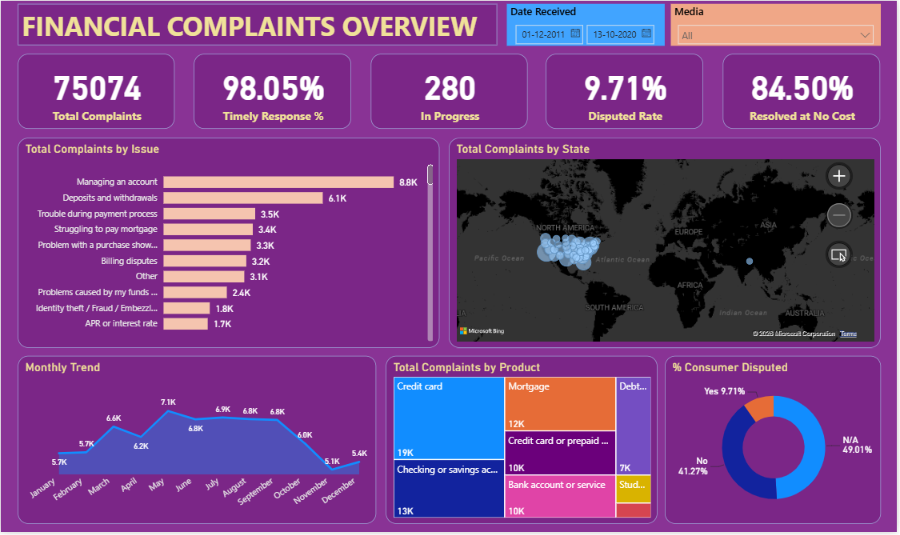

Layout of this report page (visuals, bound fields, positions):
{"tool":"powerbi","page":{"name":"Page 1","canvas":[1280,758],"ordinal":0},"visuals":[{"type":"card","fields":{"Values":["Financial Consumer Complaints_Financial Consumer Complaints.Total Complaints"]},"box":[23.8,75.2,223.9,107],"z":0},{"type":"textbox","box":[23.8,3.6,684.8,59.5],"z":1000},{"type":"card","fields":{"Values":["Financial Consumer Complaints_Financial Consumer Complaints.Tomely Response %"]},"box":[275.5,75.2,225.1,107],"z":2000},{"type":"card","fields":{"Values":["Financial Consumer Complaints_Financial Consumer Complaints.In Progress Complaints"]},"box":[527.9,75.2,223.9,107],"z":3000},{"type":"card","fields":{"Values":["Financial Consumer Complaints_Financial Consumer Complaints.Consumer Disputed Rate"]},"box":[779.1,75.2,225,107],"z":4000},{"type":"card","fields":{"Values":["Financial Consumer Complaints_Financial Consumer Complaints.Resolved at No Cost"]},"box":[1031.3,75.2,225.1,107],"z":5000},{"type":"barChart","fields":{"Category":["Financial Consumer Complaints_Financial Consumer Complaints.Issue"],"Y":["Financial Consumer Complaints_Financial Consumer Complaints.Total Complaints"]},"box":[24.4,195.1,602.3,299.9],"z":6000},{"type":"map","fields":{"Category":["Financial Consumer Complaints_Financial Consumer Complaints.State"],"Size":["Financial Consumer Complaints_Financial Consumer Complaints.Total Complaints"]},"box":[640.1,195.1,617,299.9],"z":7000},{"type":"areaChart","title":"Monthly Trend","fields":{"Category":["Financial Consumer Complaints_Financial Consumer Complaints.Date Received.Variation.Date Hierarchy.Month"],"Y":["Financial Consumer Complaints_Financial Consumer Complaints.Total Complaints"]},"box":[24.4,507.2,512.1,240.2],"z":8000},{"type":"treemap","fields":{"Group":["Financial Consumer Complaints_Financial Consumer Complaints.Product"],"Values":["Financial Consumer Complaints_Financial Consumer Complaints.Total Complaints"]},"box":[549.9,507.2,387.7,240.2],"z":9000},{"type":"donutChart","title":"% Consumer Disputed","fields":{"Category":["Financial Consumer Complaints_Financial Consumer Complaints.Consumer disputed?"],"Y":["Financial Consumer Complaints_Financial Consumer Complaints.Total Complaints"]},"box":[948.6,507.2,308.5,240.2],"z":9001},{"type":"slicer","title":"Date Received","fields":{"Values":["Financial Consumer Complaints_Financial Consumer Complaints.Date Received"]},"box":[723,3.7,225.6,59.7],"z":9002},{"type":"slicer","title":"Media","fields":{"Values":["Financial Consumer Complaints_Financial Consumer Complaints.Submitted via"]},"box":[957.1,3.7,299.9,59.7],"z":9003}]}

Visuals, with their boxes in screenshot pixels (x1, y1, x2, y2), scaled from the page's 1280x758 canvas onto the 900x535 screenshot:
card - Financial Consumer Complaints_Financial Consumer Complaints.Total Complaints: (left=17, top=53, right=174, bottom=129)
textbox: (left=17, top=3, right=498, bottom=45)
card - Financial Consumer Complaints_Financial Consumer Complaints.Tomely Response %: (left=194, top=53, right=352, bottom=129)
card - Financial Consumer Complaints_Financial Consumer Complaints.In Progress Complaints: (left=371, top=53, right=529, bottom=129)
card - Financial Consumer Complaints_Financial Consumer Complaints.Consumer Disputed Rate: (left=548, top=53, right=706, bottom=129)
card - Financial Consumer Complaints_Financial Consumer Complaints.Resolved at No Cost: (left=725, top=53, right=883, bottom=129)
barChart - Financial Consumer Complaints_Financial Consumer Complaints.Issue x Financial Consumer Complaints_Financial Consumer Complaints.Total Complaints: (left=17, top=138, right=441, bottom=349)
map - Financial Consumer Complaints_Financial Consumer Complaints.State x Financial Consumer Complaints_Financial Consumer Complaints.Total Complaints: (left=450, top=138, right=884, bottom=349)
"Monthly Trend" areaChart: (left=17, top=358, right=377, bottom=528)
treemap - Financial Consumer Complaints_Financial Consumer Complaints.Product x Financial Consumer Complaints_Financial Consumer Complaints.Total Complaints: (left=387, top=358, right=659, bottom=528)
"% Consumer Disputed" donutChart: (left=667, top=358, right=884, bottom=528)
"Date Received" slicer: (left=508, top=3, right=667, bottom=45)
"Media" slicer: (left=673, top=3, right=884, bottom=45)
